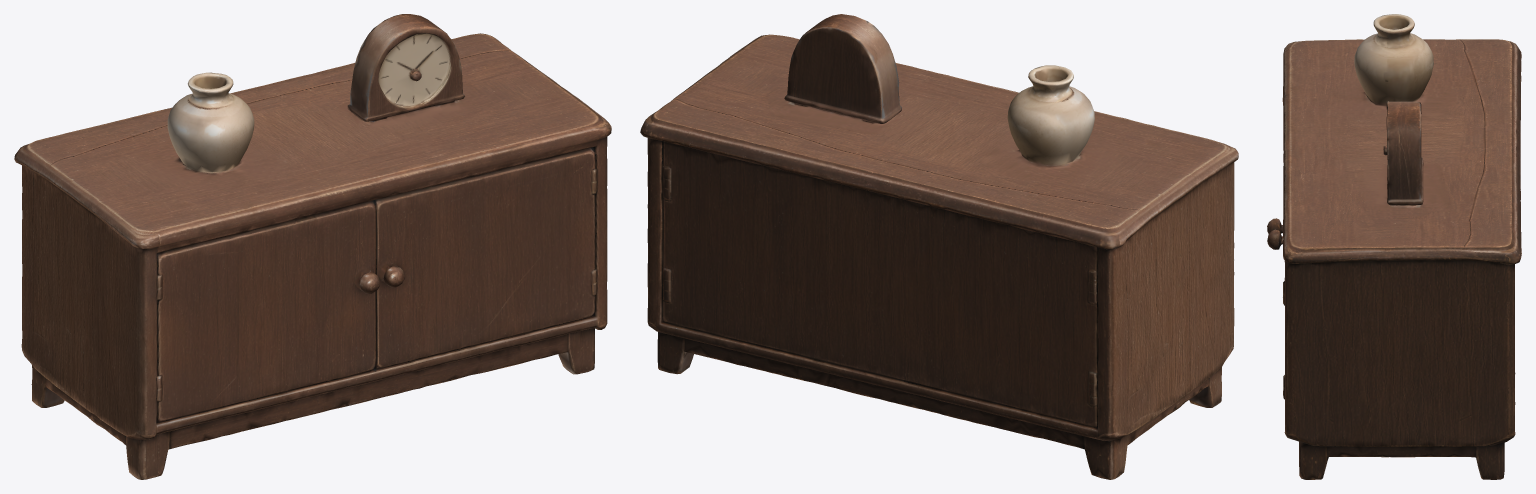
Rendered from VAR_LivingRoom_Sideboard.fbx.
3 views of the same model, side by side, from view 1: azimuth 30°, elevation 25°; view 2: azimuth 150°, elevation 25°; view 3: azimuth 270°, elevation 25° (orthographic). The views are drawn at different scales.
Parts seen in each view (by area): view 1: texture_mapping; view 2: texture_mapping; view 3: texture_mapping.
Part boxes in pixels (left/top/right/bottom): texture_mapping: left=14, top=14, right=611, bottom=479; texture_mapping: left=640, top=14, right=1238, bottom=479; texture_mapping: left=1267, top=14, right=1521, bottom=479.
Size of the model in its own units: 0.998 by 0.4987 by 0.6795.
1 material, 1 textured.
